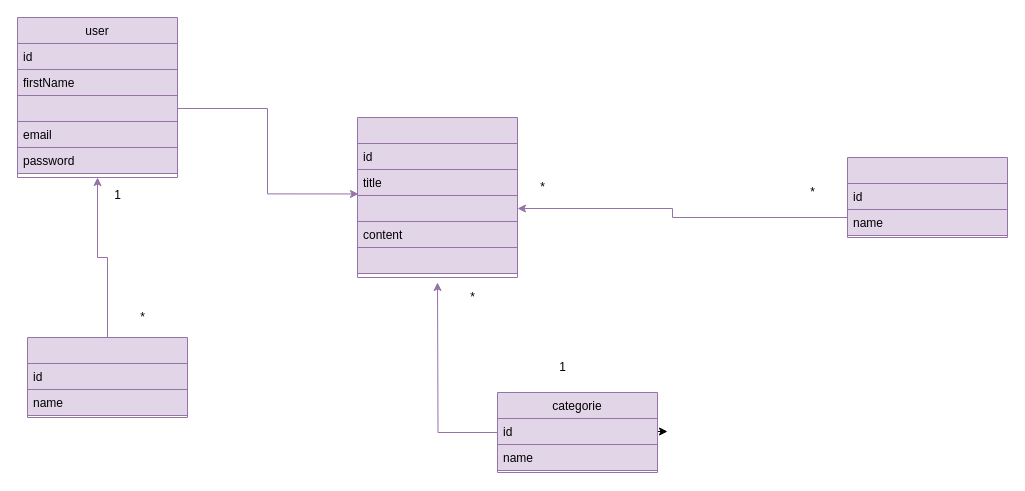
This 1025x491 diagram has some shape labels left out. Each missing label, with the box of its shape:
description: (356, 194, 518, 222)
image: (356, 246, 518, 274)
lastName: (16, 94, 178, 122)
role: (26, 336, 188, 418)
tags: (846, 156, 1008, 238)
wiki: (356, 116, 518, 278)
